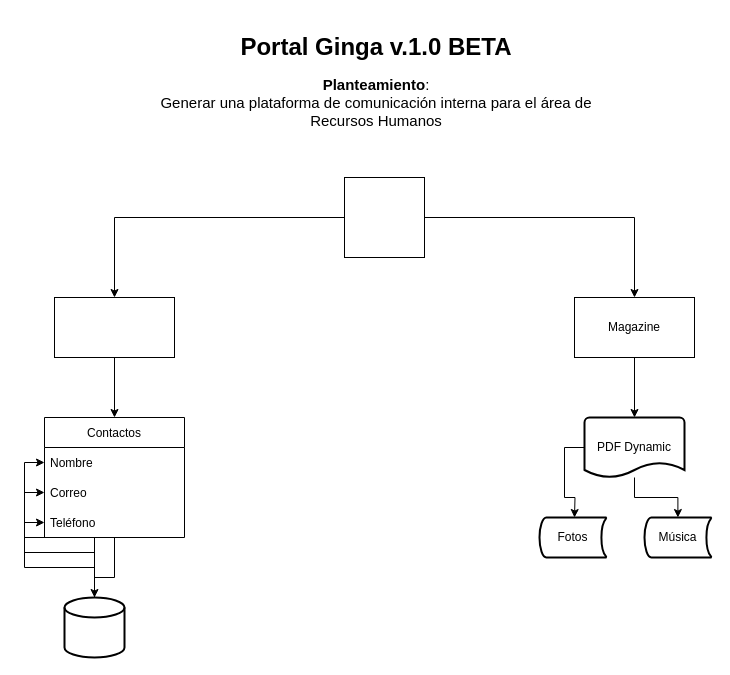
The diagram is 730 pixels wide and 675 high, and some of its shapes have lost their labels. The shapes that lost their labels are listed below. From the top down, each one's centre as x and y in pixels, then its label:
At (x=384, y=217): "Inicio Sesión".
At (x=114, y=327): "Directorio".
At (x=94, y=627): "Usuarios".
